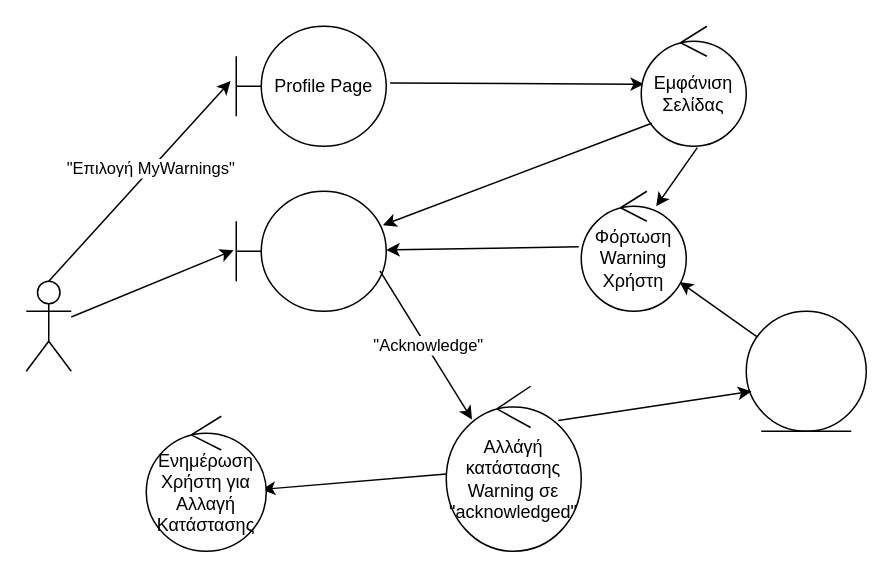
Some shapes in this 893 by 578 pixel diagram are drawn without their labels. Here are the shapes that lost their labels. From the top down, the box of each, then its label:
(235, 190, 386, 311): WarningPage
(25, 280, 71, 371): User
(745, 310, 866, 431): Warning
